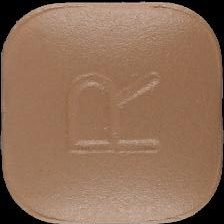55111-725: (0, 0, 224, 224)
